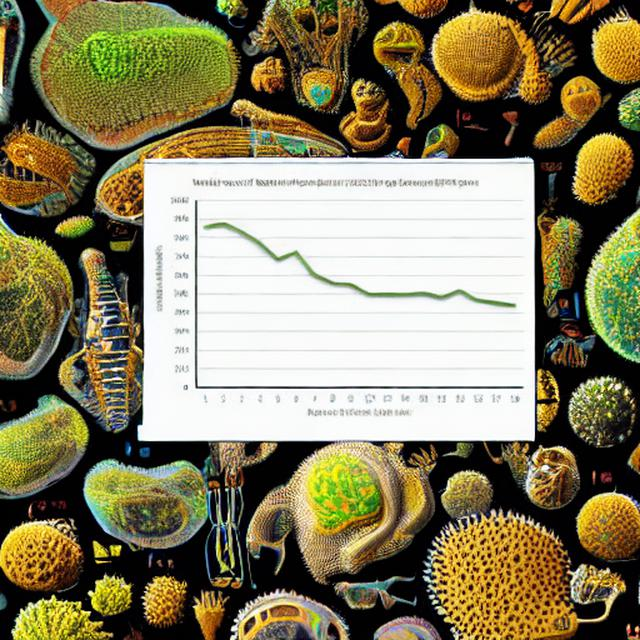Graph: (145, 171, 533, 428)
